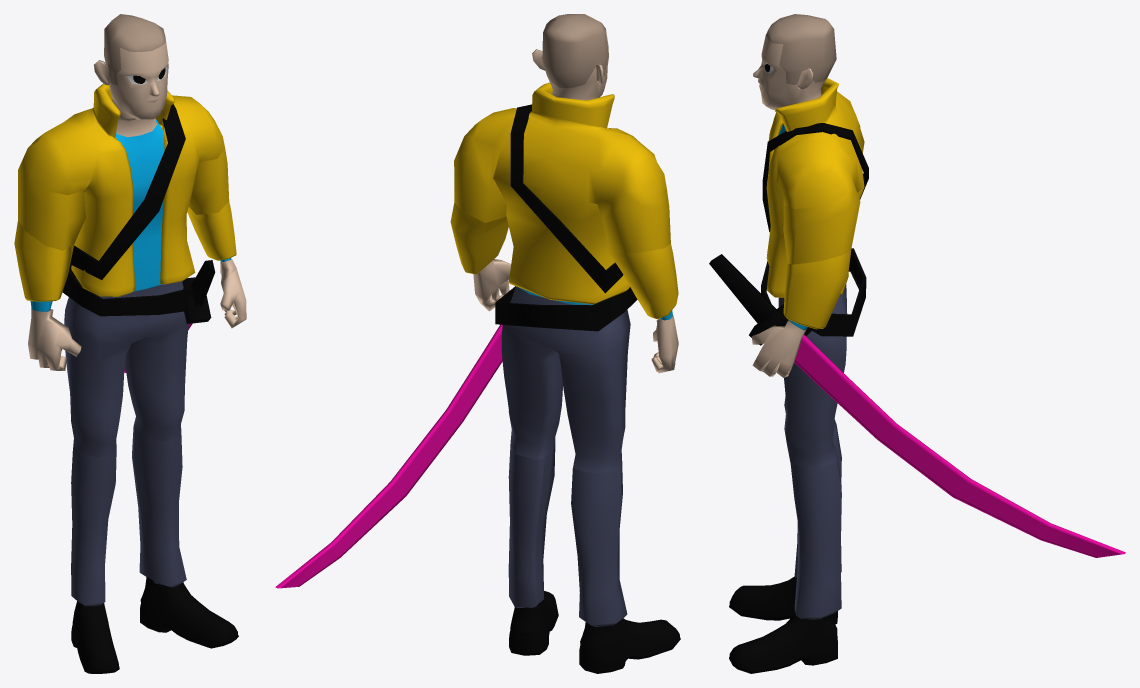
The model's file is charcter_test.fbx.
3 renders of one model, left to right at view 1: azimuth 30°, elevation 25°; view 2: azimuth 150°, elevation 25°; view 3: azimuth 270°, elevation 25°, orthographic. The views are drawn at different scales.
Parts seen in each view (by area): view 1: polySurface54; view 2: polySurface54; view 3: polySurface54.
Boxes of the visible parts, x1=… form: polySurface54: x1=14, y1=14, x2=246, y2=673; polySurface54: x1=275, y1=14, x2=680, y2=673; polySurface54: x1=709, y1=14, x2=1125, y2=673.
Bounding box in the file's own units: 0.7674 × 1.96 × 1.19.
